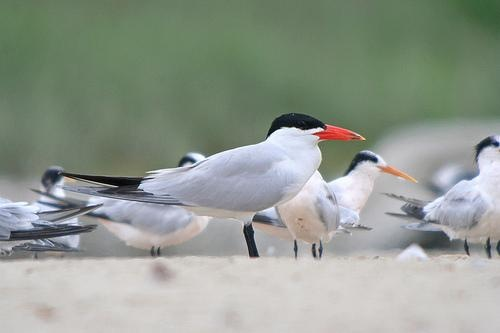bird: (65, 113, 367, 254)
